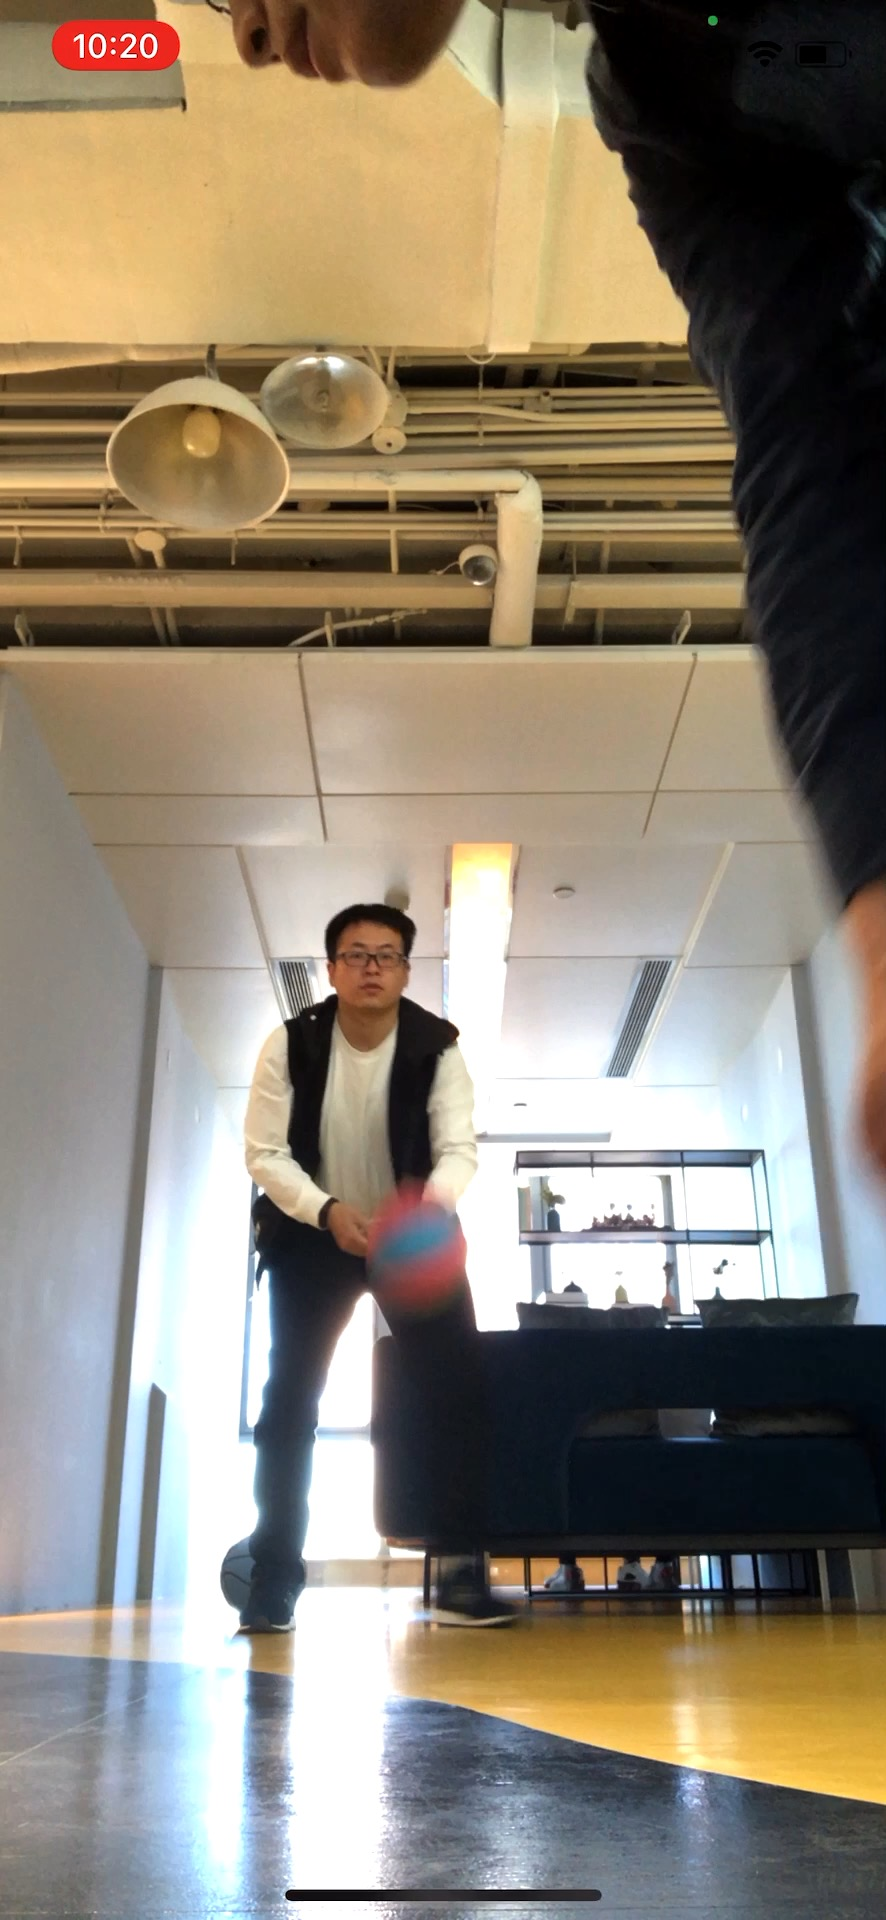ball: (361, 1198, 467, 1311)
